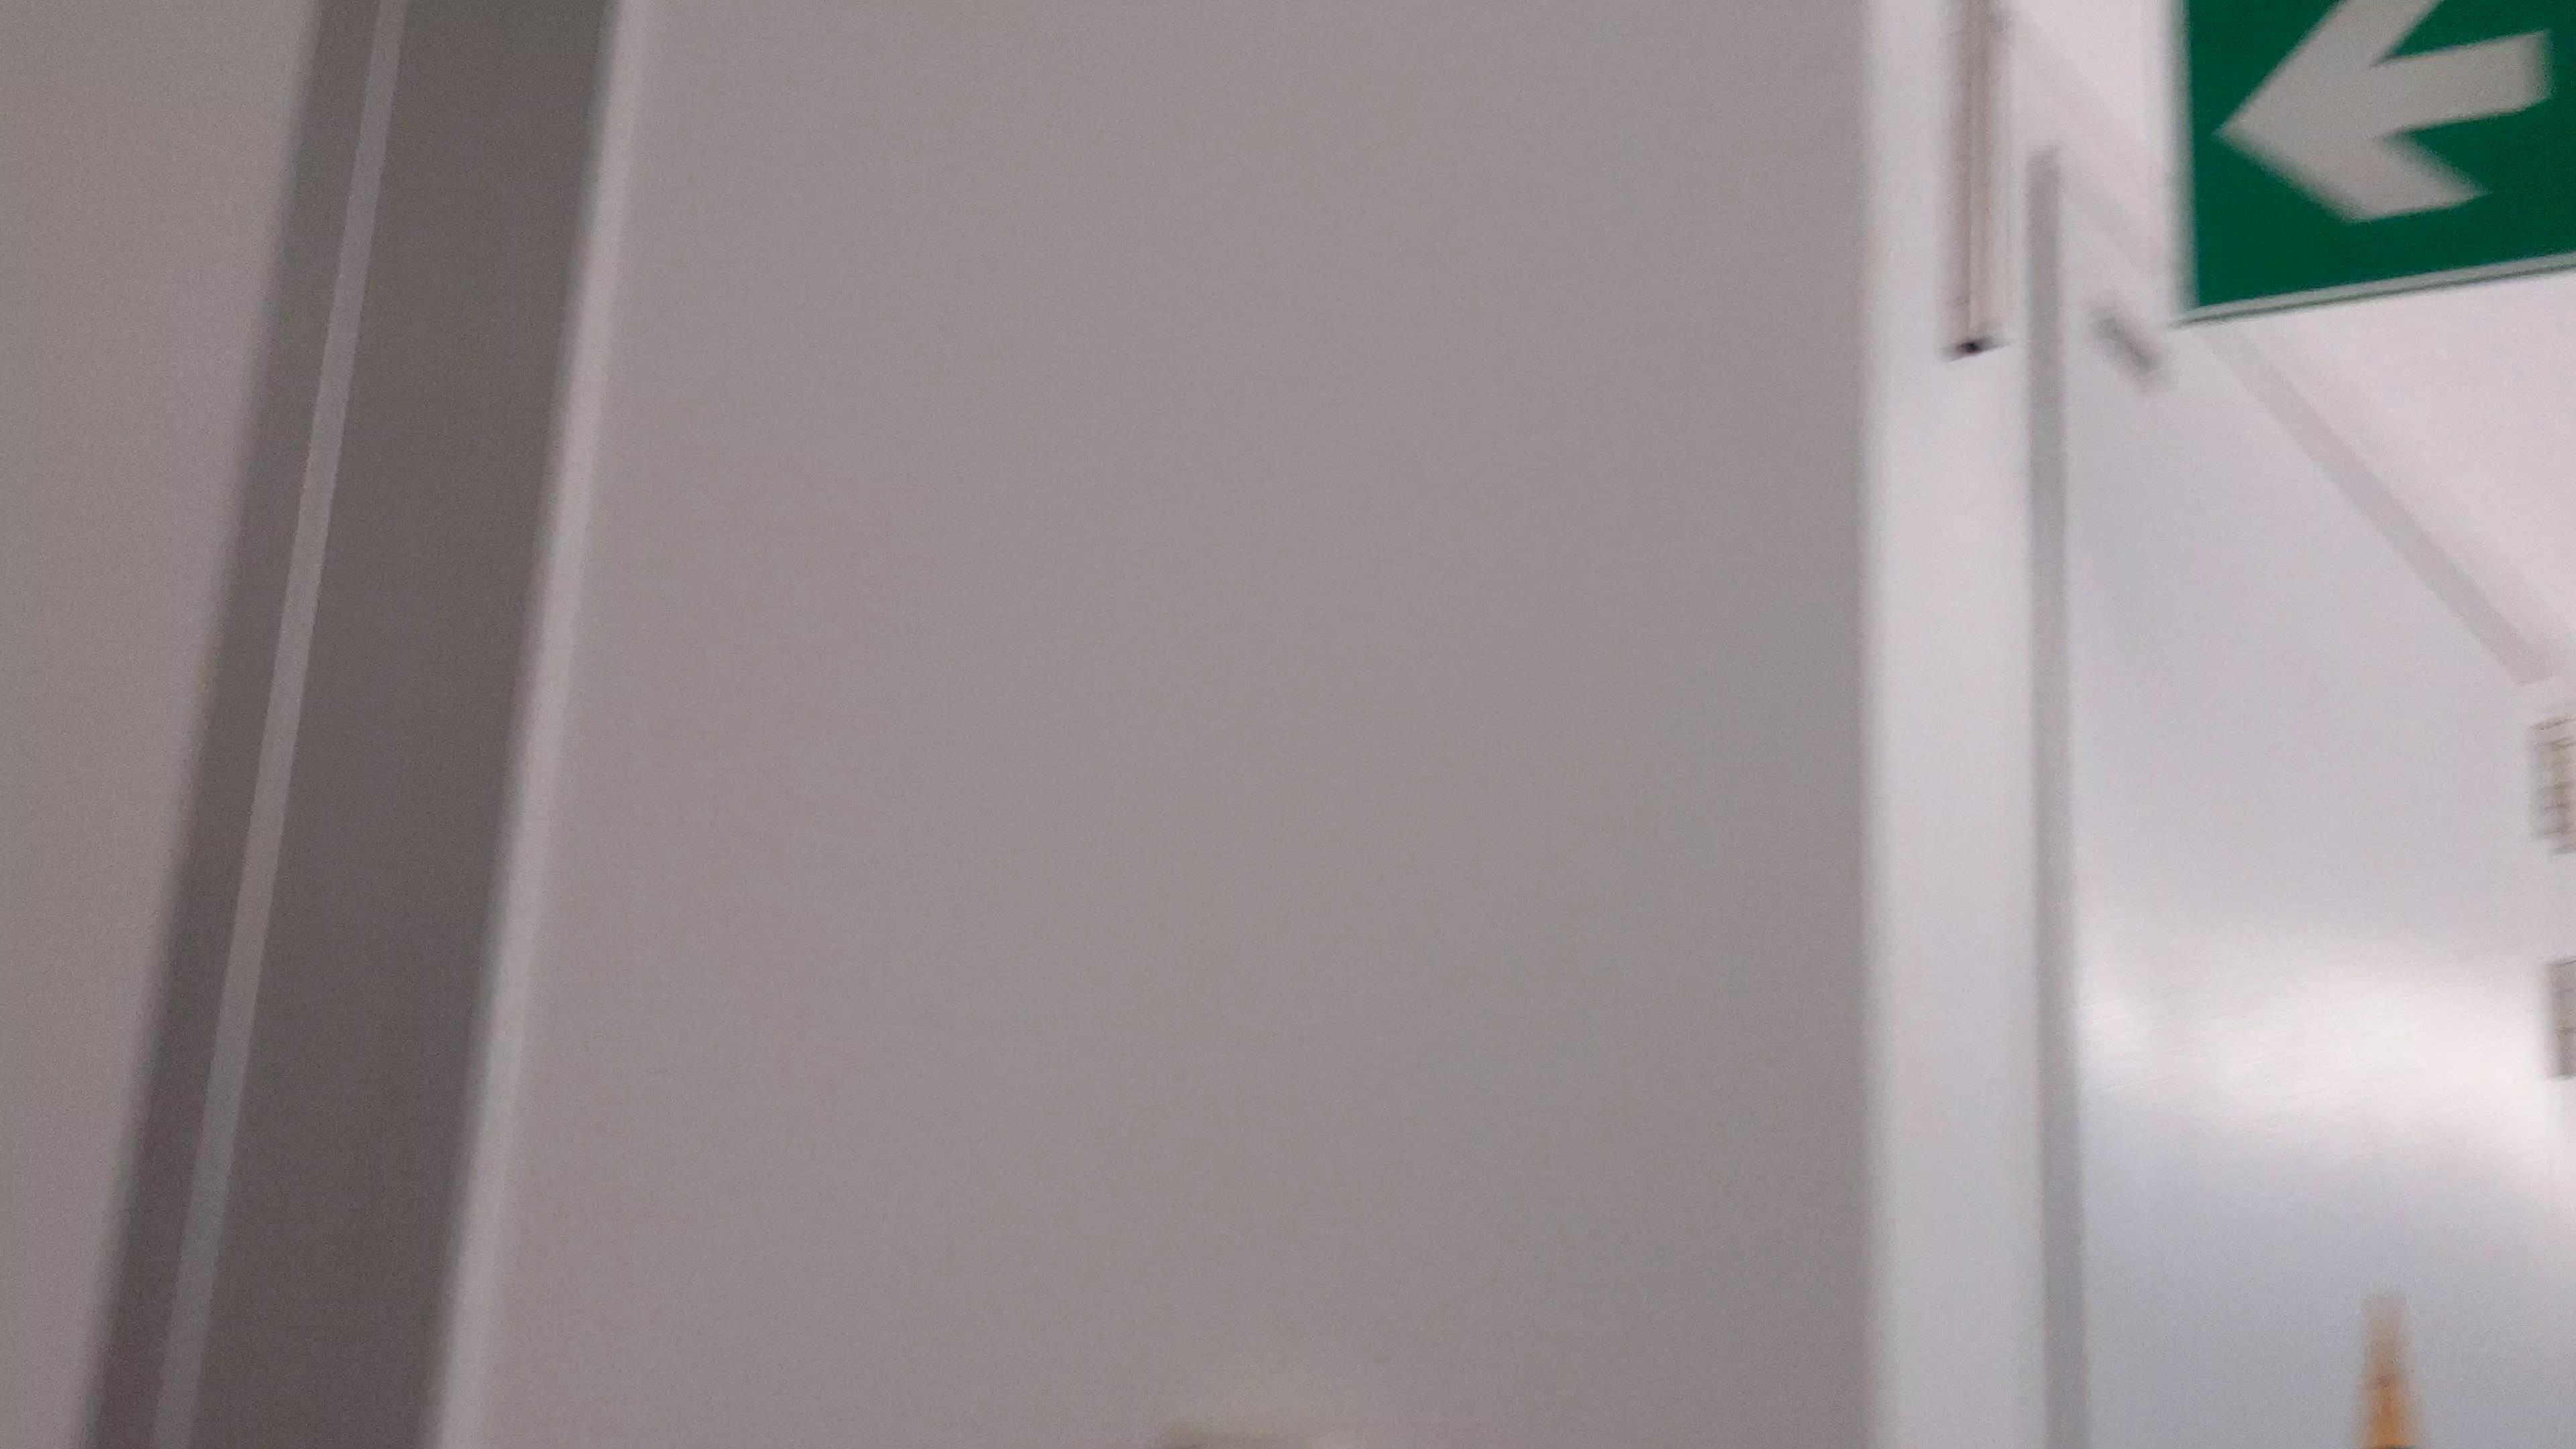emergency left arrow: (2221, 0, 2561, 223)
